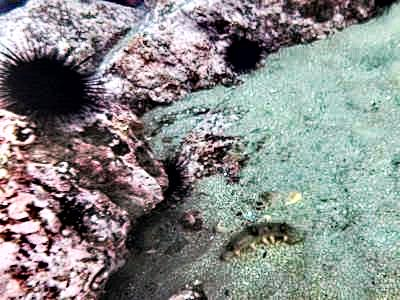urchin: (2, 41, 103, 115), (225, 37, 258, 70)
